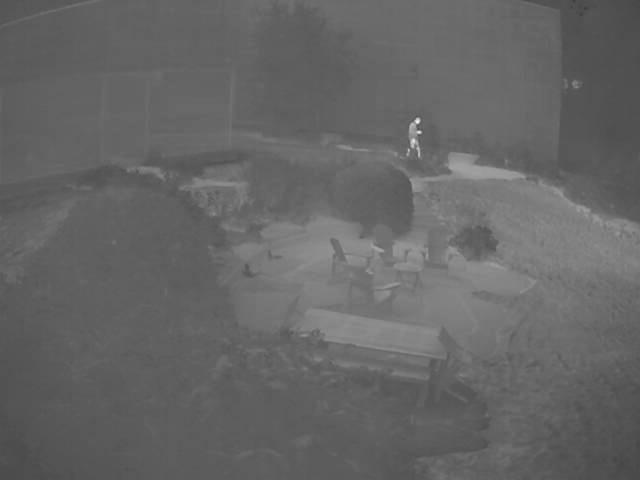person: (407, 116, 423, 162)
